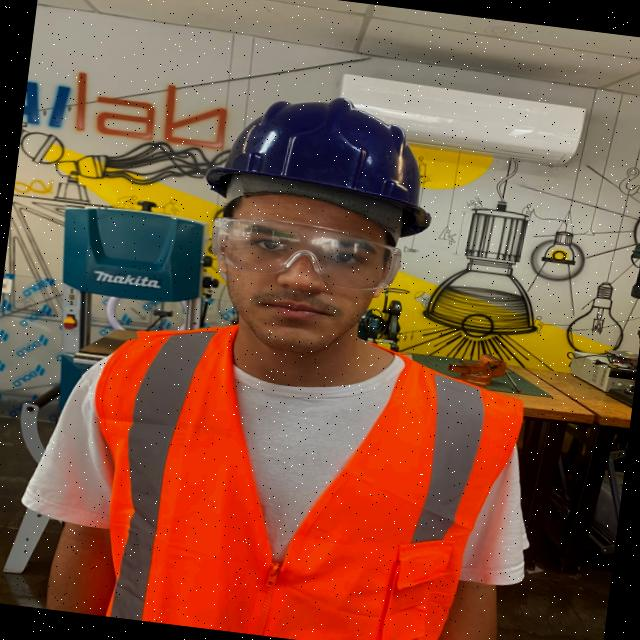CAPACETE: (200, 94, 440, 239)
COLETE: (102, 313, 529, 640)
OCULOS: (211, 211, 408, 294)
